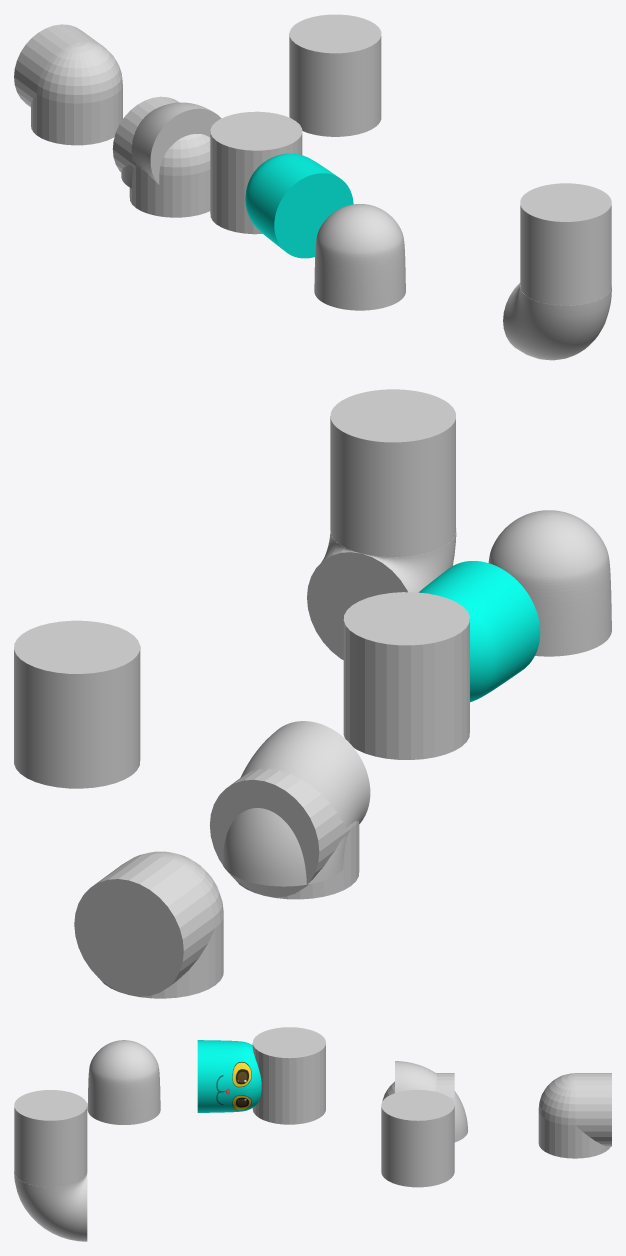
Rendered from CatCurvedHead.fbx.
3 views of the same model, one above another, from view 1: azimuth 30°, elevation 25°; view 2: azimuth 150°, elevation 25°; view 3: azimuth 270°, elevation 25° (orthographic). The views are drawn at different scales.
Visible parts, largest first — view 1: Cylinder, CatBody, CatBody.001, CatTail, CatHead, CatCurveGood, CatCurve, Cylinder.003, Sphere; view 2: Cylinder, CatBody, CatBody.001, CatCurve, CatTail, CatHead, Sphere, CatCurveGood, Cylinder.003; view 3: Cylinder, CatBody, CatBody.001, CatTail, CatHead, CatCurveGood, CatCurve, Sphere.
Part boxes in pixels (<box>): Cylinder: <box>14,24,302,234</box>; CatBody: <box>289,14,381,136</box>; CatBody.001: <box>520,183,611,305</box>; CatTail: <box>314,204,405,310</box>; CatHead: <box>245,153,353,258</box>; CatCurveGood: <box>503,282,611,360</box>; CatCurve: <box>121,102,221,188</box>; Cylinder.003: <box>129,166,210,217</box>; Sphere: <box>112,96,210,175</box>; Cylinder: <box>74,592,469,998</box>; CatBody: <box>14,620,140,788</box>; CatBody.001: <box>330,389,455,556</box>; CatCurve: <box>222,721,370,886</box>; CatTail: <box>488,510,611,656</box>; CatHead: <box>418,561,540,702</box>; Sphere: <box>209,768,357,897</box>; CatCurveGood: <box>307,528,456,659</box>; Cylinder.003: <box>236,821,359,899</box>; Cylinder: <box>252,1027,611,1158</box>; CatBody: <box>381,1090,454,1187</box>; CatBody.001: <box>14,1090,87,1187</box>; CatTail: <box>87,1040,160,1124</box>; CatHead: <box>197,1040,261,1112</box>; CatCurveGood: <box>14,1171,87,1241</box>; CatCurve: <box>395,1061,468,1142</box>; Sphere: <box>382,1073,454,1104</box>.
Size of the model in its own units: 600 by 402 by 1629.
Materials: 1 (1 with a texture image).
